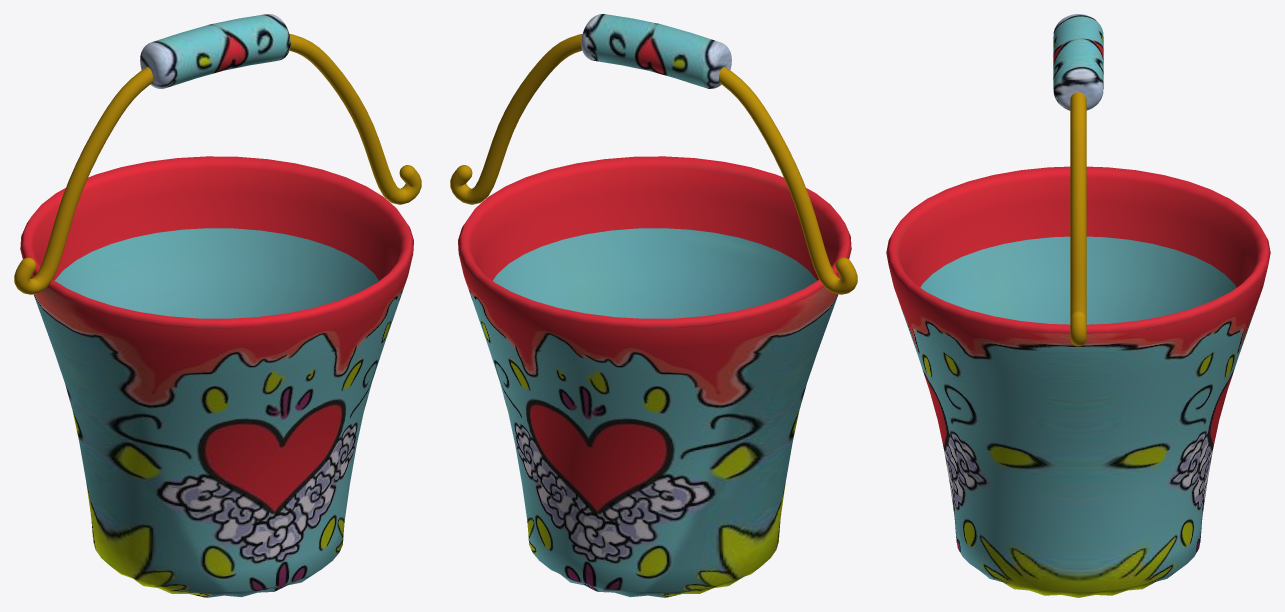
File: CubetaFBx.fbx
The picture shows the model from 3 angles, left to right: view 1: azimuth 30°, elevation 25°; view 2: azimuth 150°, elevation 25°; view 3: azimuth 270°, elevation 25°; orthographic projection. The views are drawn at different scales.
Visible parts, largest first — view 1: pCylinder4, pSphere2; view 2: pCylinder4, pSphere2; view 3: pCylinder4, pSphere2.
Boxes of the visible parts, x1,y1,x2,y2 form: pCylinder4: (20, 14, 413, 597); pSphere2: (14, 34, 421, 294); pCylinder4: (458, 14, 851, 597); pSphere2: (450, 34, 857, 294); pCylinder4: (886, 14, 1270, 597); pSphere2: (1070, 92, 1086, 346).
Bounding box in the file's own units: 4.5 × 5.61 × 3.79.
2 materials, 1 textured.
